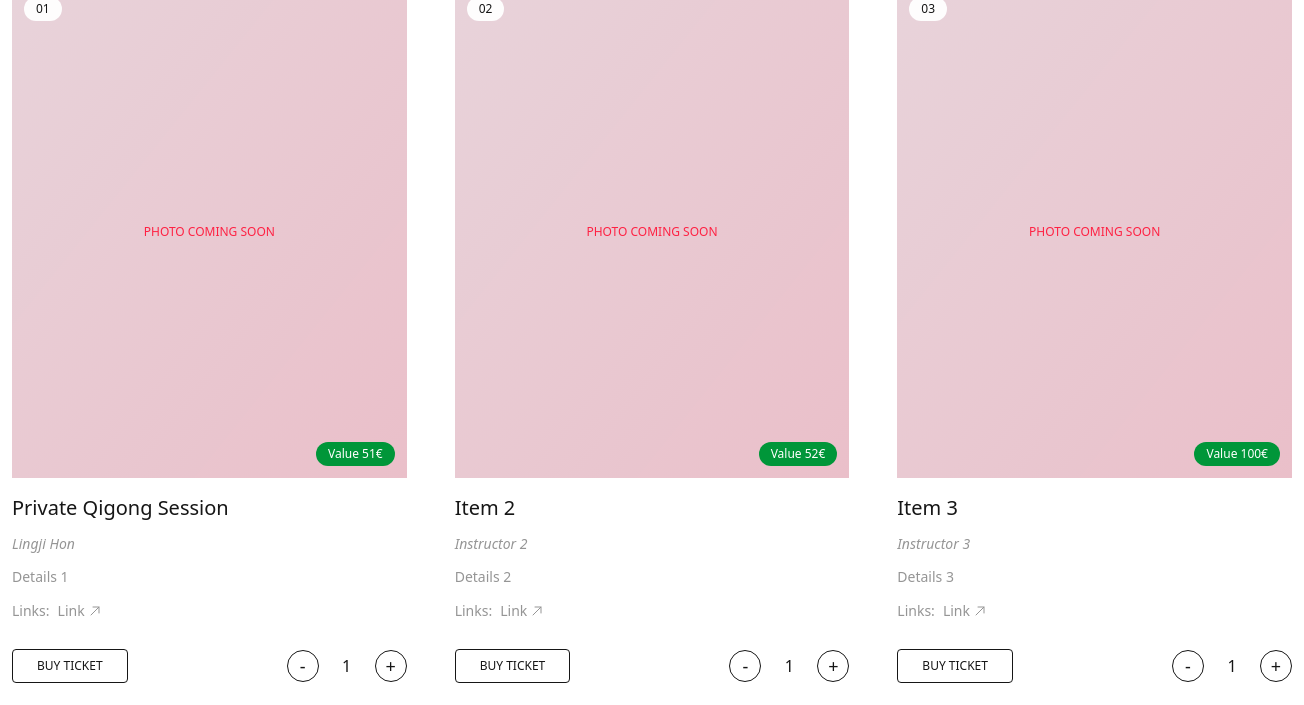
Test: RaffleGrid - PayPal Integration › shows PayPal section when "Buy Ticket" is clicked
Click the button "Buy Ticket" below "Lingji Hon": (70, 666) [12,649,128,683]
(page scrolled)
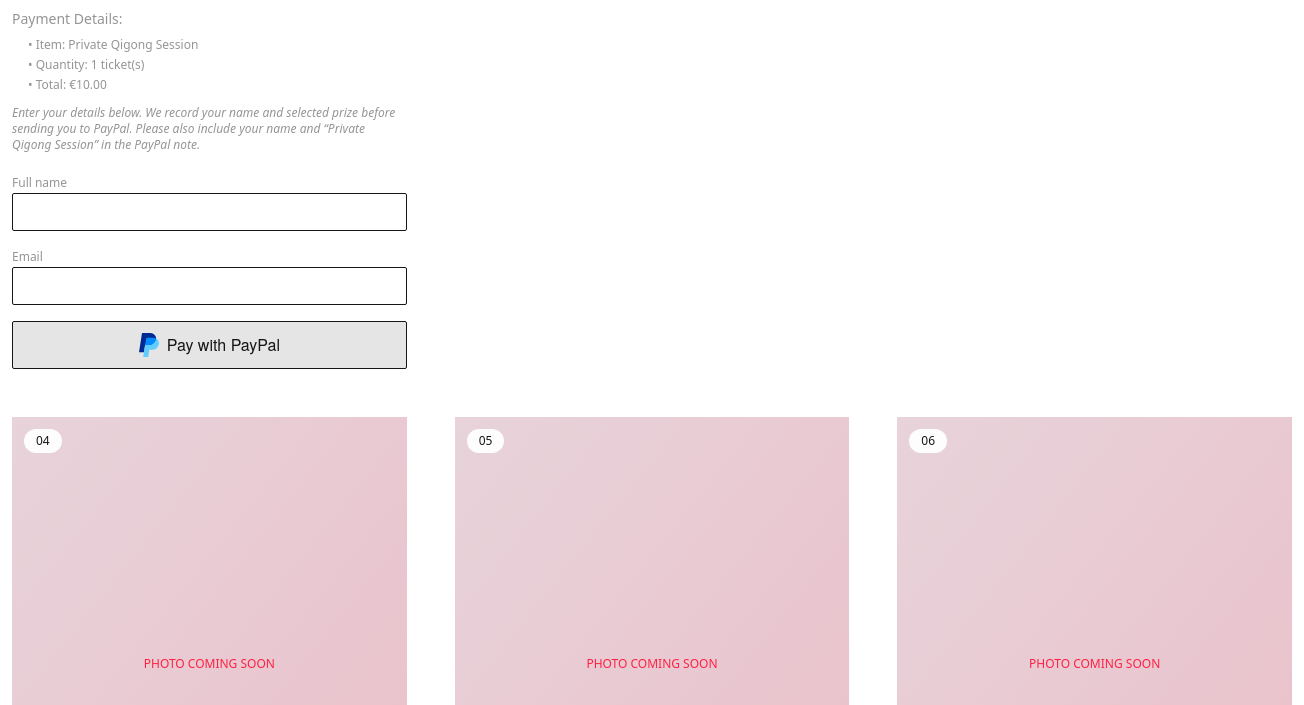
Now the button with aria-label "Pay €10.00 with PayPal" is shown, box [12,321,407,369]
